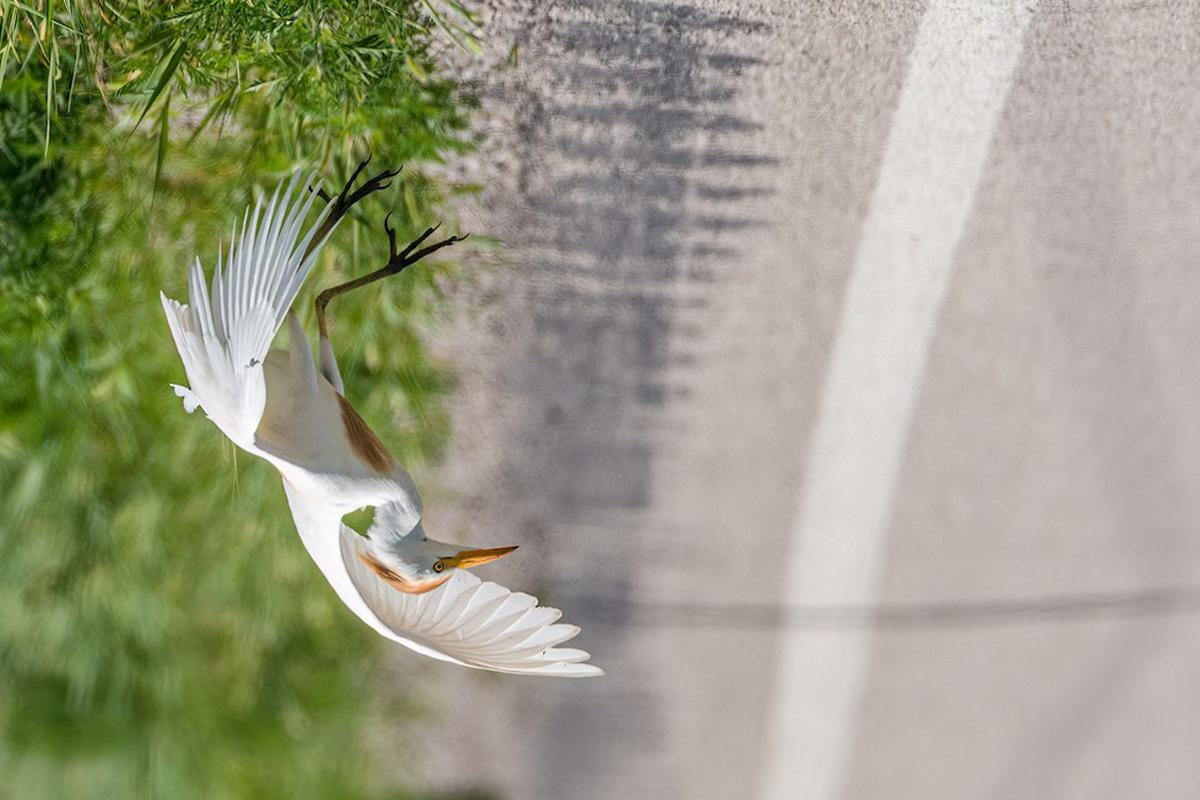egret: (171, 179, 611, 703)
